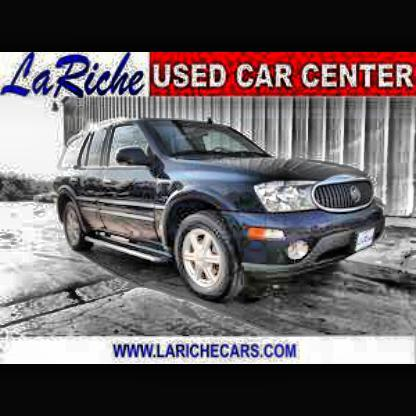Buick Rainier SUV 2007: (56, 121, 390, 305)
